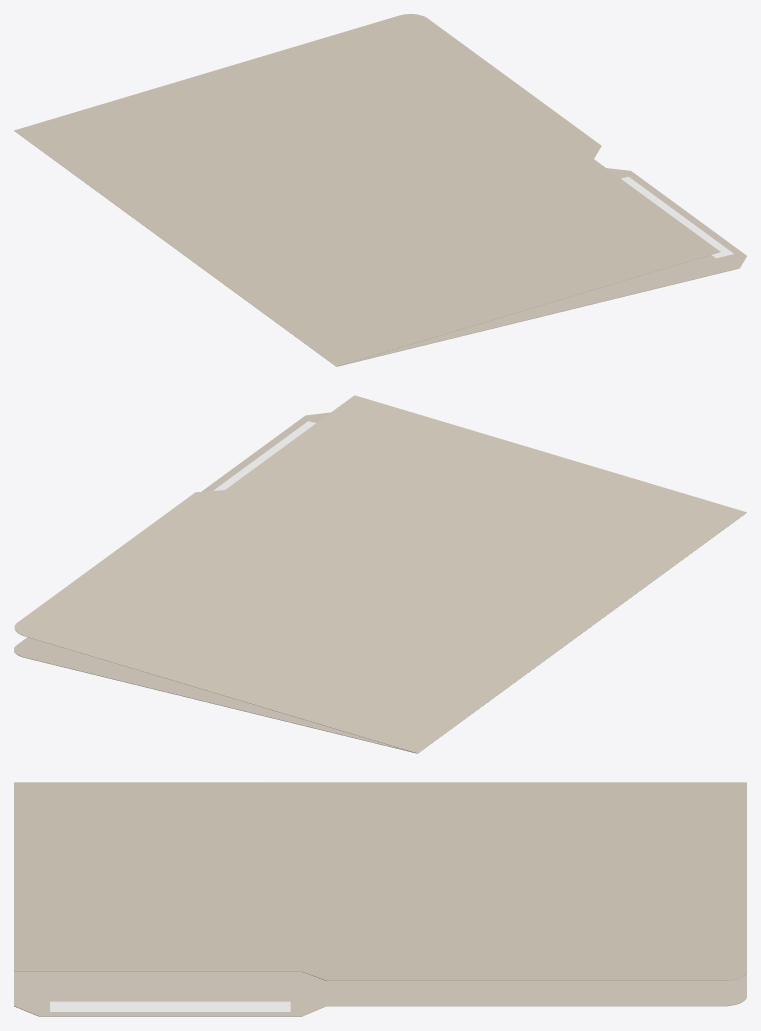
Rendered from Carpeta.glb.
3 renders of one model, top to bottom at view 1: azimuth 30°, elevation 25°; view 2: azimuth 150°, elevation 25°; view 3: azimuth 270°, elevation 25°, orthographic. The views are drawn at different scales.
Visible parts, largest first — view 1: 41df0658-a302-48ec-8904-65547aa35f50, 29c1163b-4b22-4966-9168-a7045682a310; view 2: 41df0658-a302-48ec-8904-65547aa35f50, 29c1163b-4b22-4966-9168-a7045682a310; view 3: 41df0658-a302-48ec-8904-65547aa35f50, 29c1163b-4b22-4966-9168-a7045682a310.
Part boxes in pixels (x1=…): 41df0658-a302-48ec-8904-65547aa35f50: x1=14, y1=14, x2=746, y2=366; 29c1163b-4b22-4966-9168-a7045682a310: x1=620, y1=176, x2=733, y2=258; 41df0658-a302-48ec-8904-65547aa35f50: x1=14, y1=395, x2=746, y2=753; 29c1163b-4b22-4966-9168-a7045682a310: x1=213, y1=421, x2=315, y2=490; 41df0658-a302-48ec-8904-65547aa35f50: x1=14, y1=782, x2=746, y2=1016; 29c1163b-4b22-4966-9168-a7045682a310: x1=50, y1=1001, x2=290, y2=1011.
Bounding box in the file's own units: 0.23 × 0.0117 × 0.3048.
